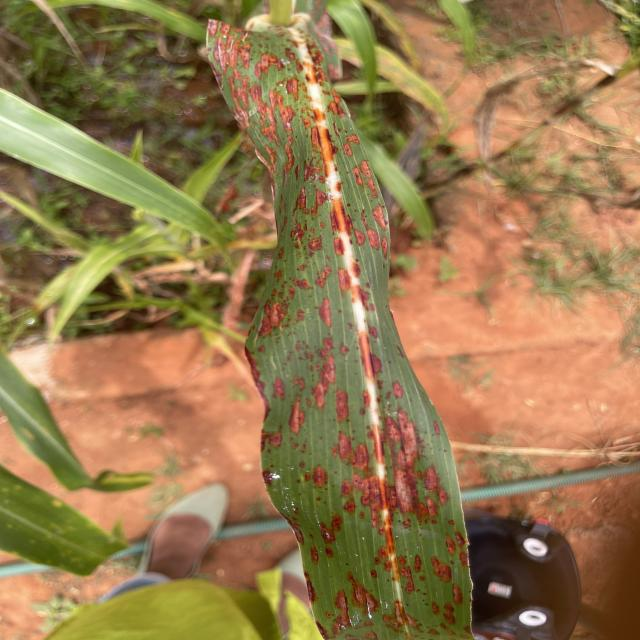millet_healthy: (0, 89, 226, 251), (0, 352, 148, 492), (0, 468, 126, 576)
millet_rust: (206, 0, 474, 640)
